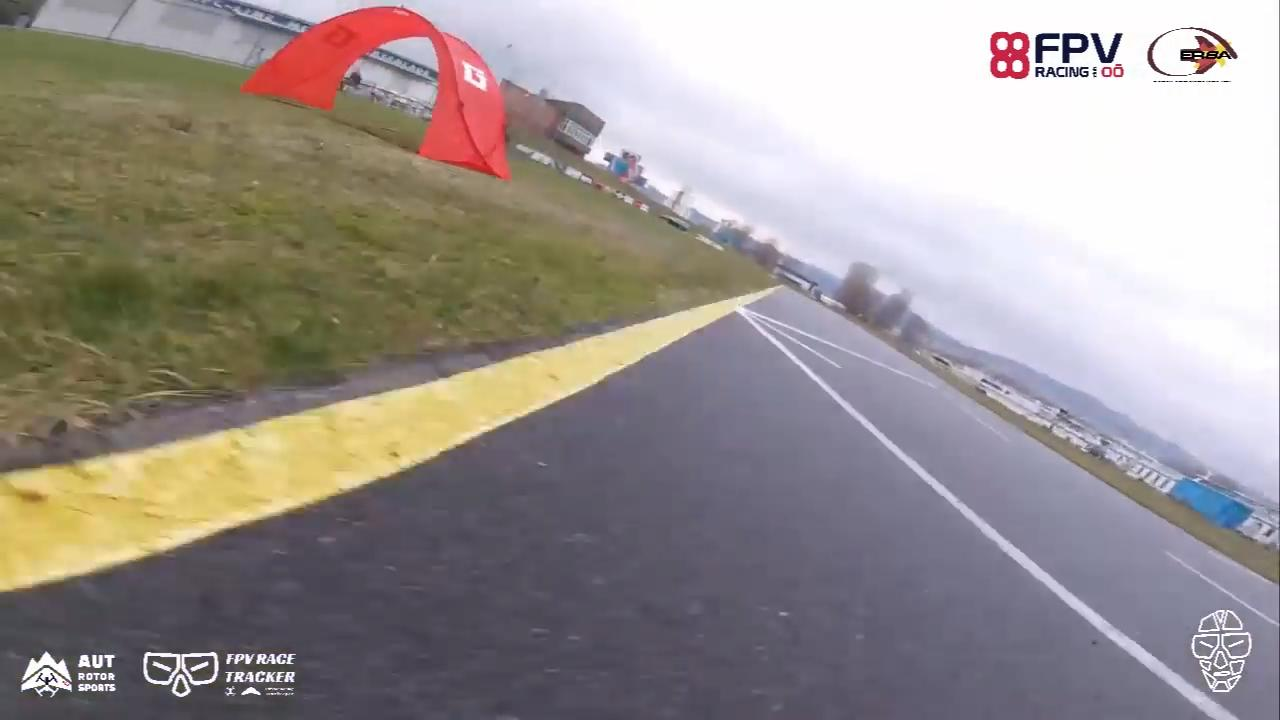gate: (240, 5, 509, 185)
